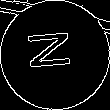N_E: (28, 33, 82, 77)
